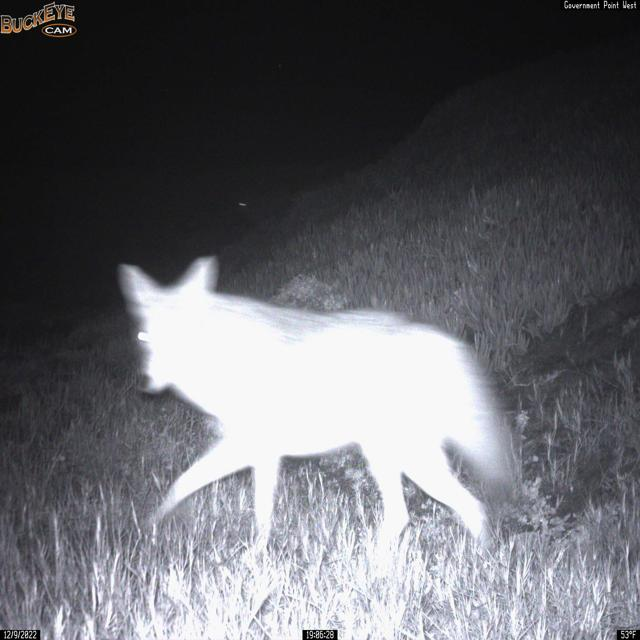coyote: (116, 253, 520, 564)
